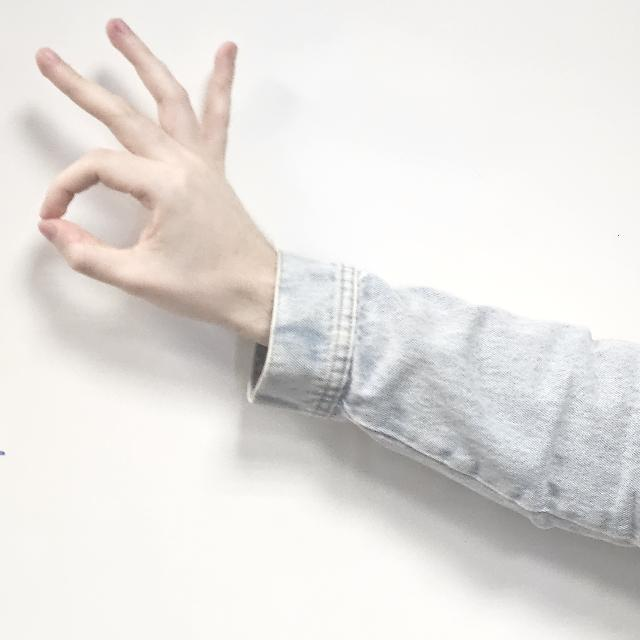Bolinha: (31, 15, 276, 348)
